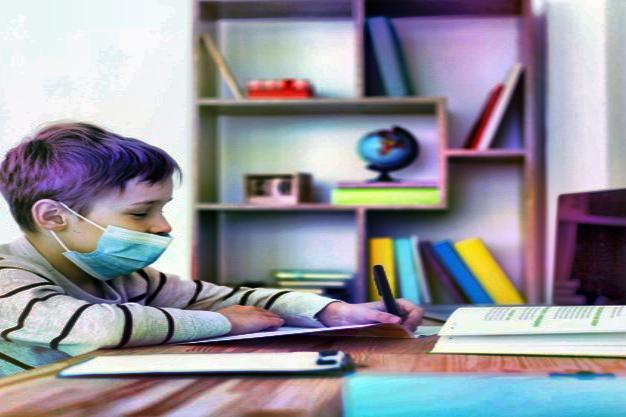mask_weared_incorrect: (0, 119, 179, 283)
